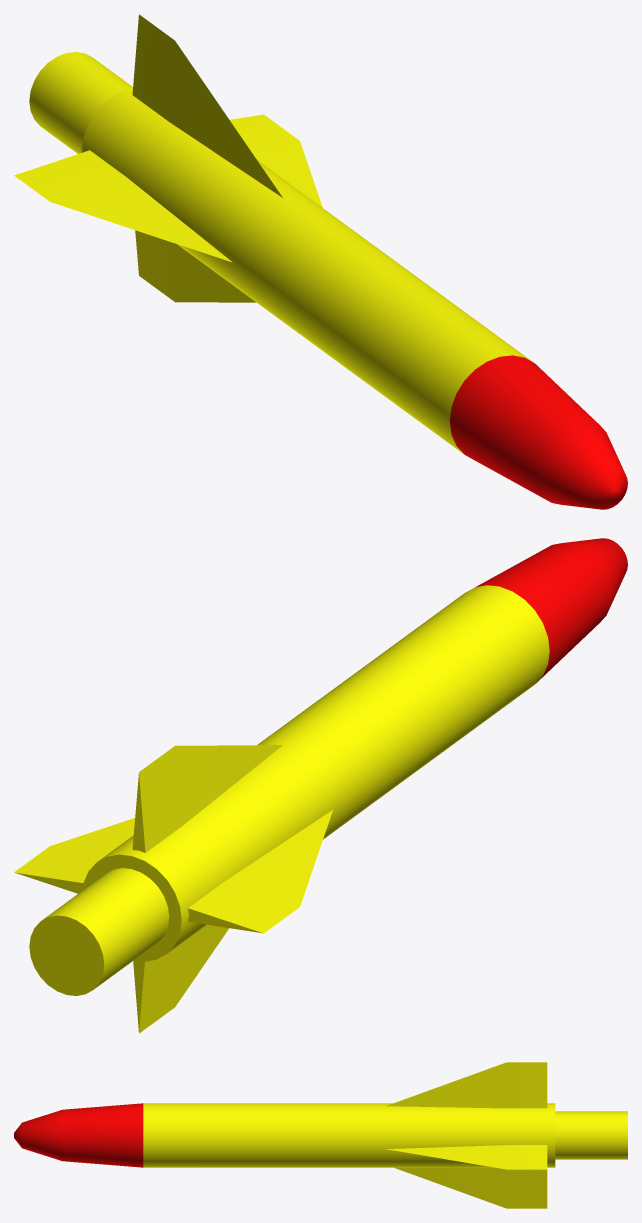
Rendered from sam missile.fbx.
3 renders of one model, top to bottom at view 1: azimuth 30°, elevation 25°; view 2: azimuth 150°, elevation 25°; view 3: azimuth 270°, elevation 25°, orthographic. The views are drawn at different scales.
Visible parts, largest first — view 1: Group1; view 2: Group1; view 3: Group1.
Boxes of the visible parts, left/top/right/bottom form: Group1: left=14, top=14, right=627, bottom=509; Group1: left=14, top=538, right=627, bottom=1033; Group1: left=14, top=1062, right=627, bottom=1208.
Size of the model in its own units: 2 by 2 by 7.6.
